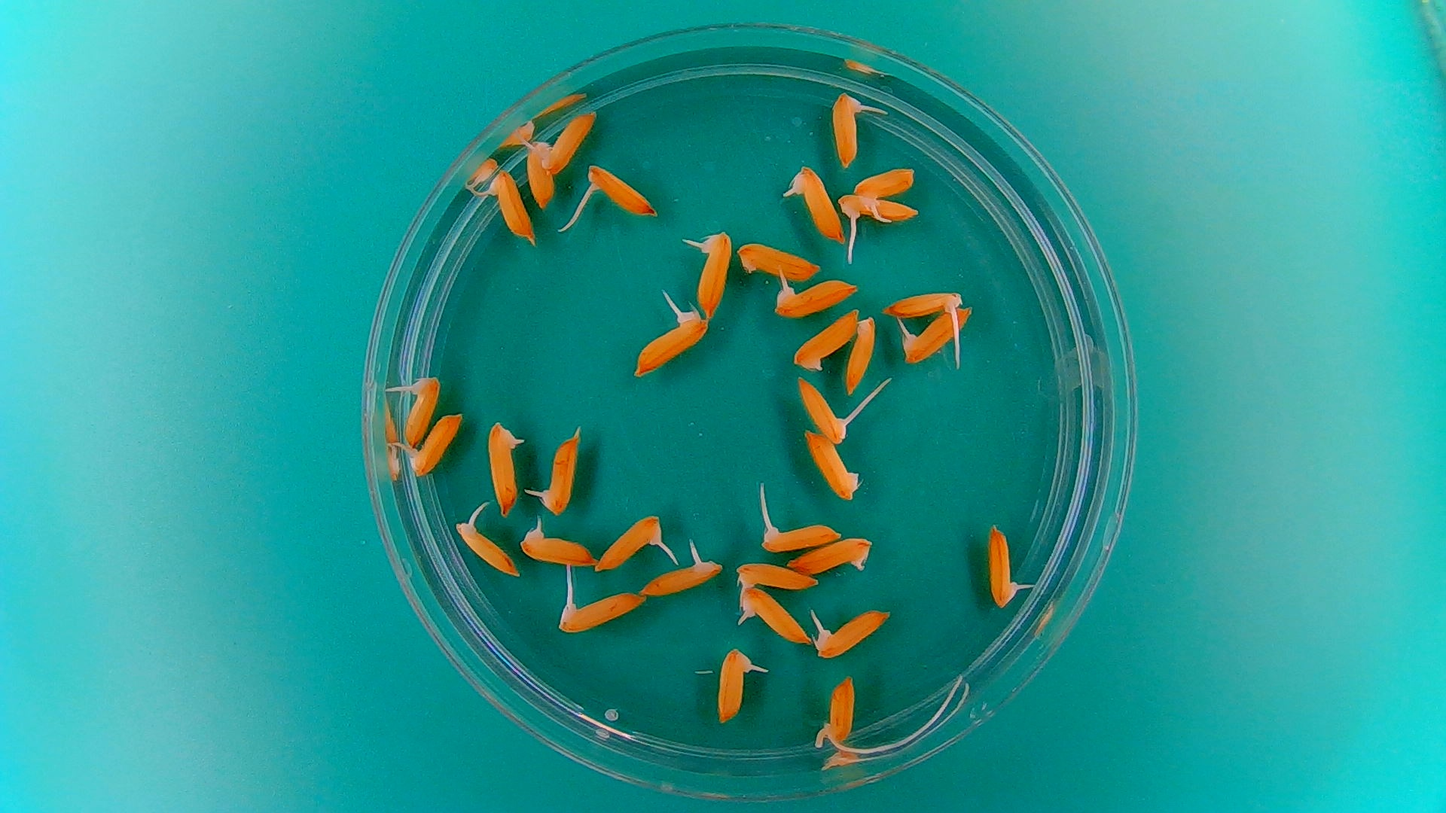no: (789, 305, 864, 373), (802, 426, 864, 504), (735, 237, 824, 280), (843, 312, 877, 397), (522, 138, 556, 212)
yes: (636, 308, 705, 376), (739, 585, 812, 647), (789, 168, 844, 245), (638, 549, 726, 597), (593, 516, 664, 575), (541, 103, 597, 177), (580, 163, 657, 216), (904, 308, 975, 365), (558, 593, 648, 635), (456, 520, 520, 579), (795, 378, 853, 443), (813, 607, 885, 659), (407, 411, 461, 477), (773, 276, 853, 320), (695, 230, 735, 318), (788, 534, 872, 574), (880, 284, 973, 319), (484, 421, 520, 510), (490, 169, 535, 240), (541, 431, 579, 515), (523, 526, 596, 567), (712, 650, 751, 726), (838, 194, 920, 230), (828, 90, 865, 169), (736, 559, 818, 593), (404, 373, 441, 446), (758, 521, 837, 555), (822, 677, 858, 751), (852, 165, 914, 206), (987, 526, 1014, 607)
